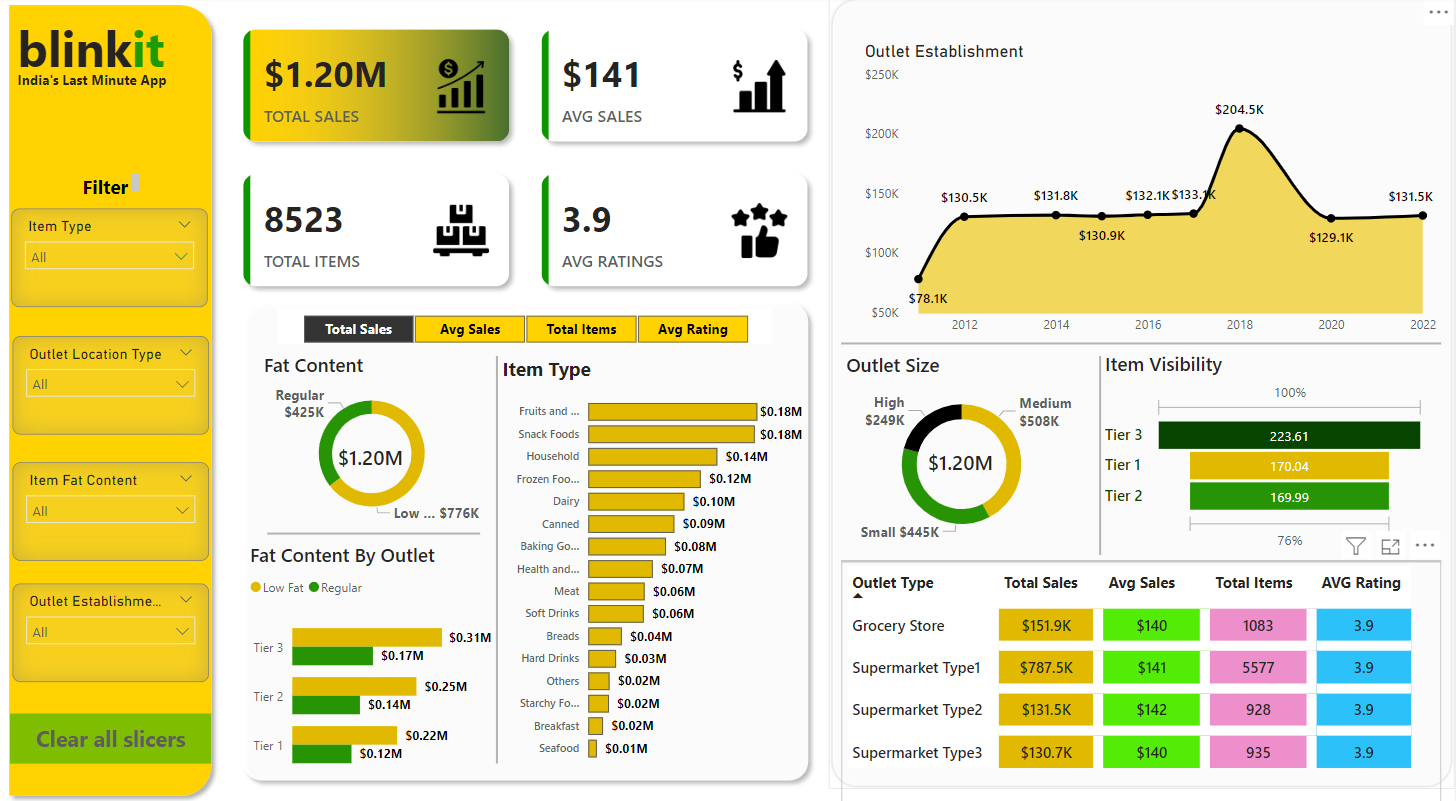

Layout of this report page (visuals, bound fields, positions):
{"tool":"powerbi","page":{"name":"Page 1","canvas":[1440,800],"ordinal":0},"visuals":[{"type":"shape","box":[0,0,218.3,800.4],"z":0},{"type":"textbox","box":[12.3,13.9,179.1,98.8],"z":1000},{"type":"textbox","box":[12.3,69.5,180.6,43.2],"z":2000},{"type":"cardVisual","fields":{"Data":["BlinkIT Grocery Data.total sales","BlinkIT Grocery Data.Avg sales","BlinkIT Grocery Data.total items","BlinkIT Grocery Data.Avg rating"]},"box":[224,16,592,288],"z":3000},{"type":"shape","box":[231.6,294.9,577.4,490.9],"z":4000},{"type":"donutChart","title":"Fat Content","fields":{"Y":["BlinkIT Grocery Data.total sales"],"Category":["BlinkIT Grocery Data.Item Fat Content"]},"box":[256,352,224,176],"z":5000},{"type":"slicer","fields":{"Values":["Matrix.Matrix"]},"box":[274.8,308.7,489.4,35.5],"z":6000},{"type":"cardVisual","fields":{"Data":["BlinkIT Grocery Data.total sales"]},"box":[316.4,408.8,100.5,84.5],"z":7000},{"type":"shape","box":[264.1,522.8,210.5,17.4],"z":8000},{"type":"shape","box":[474.5,356.6,33.5,403.5],"z":9000},{"type":"clusteredBarChart","title":"Item Type","fields":{"Y":["BlinkIT Grocery Data.total sales"],"Category":["BlinkIT Grocery Data.Item Type"]},"box":[492,356.6,307,411.5],"z":10000},{"type":"shape","box":[820.4,0,619.3,785.5],"z":11000},{"type":"lineChart","title":"Outlet Establishment","fields":{"Y":["BlinkIT Grocery Data.total sales"],"Category":["BlinkIT Grocery Data.Outlet Establishment Year"]},"box":[851.2,44.2,575.1,298.9],"z":12000},{"type":"donutChart","title":"Outlet Size","fields":{"Y":["BlinkIT Grocery Data.total sales"],"Category":["BlinkIT Grocery Data.Outlet Size"]},"box":[832.4,352.5,238.6,197.1],"z":13000},{"type":"shape","box":[832.4,336.5,593.8,14.7],"z":14000},{"type":"cardVisual","fields":{"Data":["BlinkIT Grocery Data.total sales"]},"box":[900.8,423.6,100.5,56.3],"z":15000},{"type":"shape","box":[832.4,555,593.8,8],"z":16000},{"type":"shape","box":[1071.1,356.6,34.9,197.1],"z":17000},{"type":"clusteredBarChart","title":"Fat Content By Outlet","fields":{"Y":["BlinkIT Grocery Data.total sales"],"Category":["BlinkIT Grocery Data.Outlet Location Type"],"Series":["BlinkIT Grocery Data.Item Fat Content"]},"box":[242.6,540.2,249.3,245.3],"z":18000},{"type":"tableEx","title":"Outlet Type","fields":{"Values":["BlinkIT Grocery Data.Outlet Type","BlinkIT Grocery Data.total sales","BlinkIT Grocery Data.Avg Sales","BlinkIT Grocery Data.total items","BlinkIT Grocery Data.AVG Rating"]},"box":[832.4,559,593.8,241.3],"z":19000},{"type":"funnel","title":"Item Visibility","fields":{"Y":["Sum(BlinkIT Grocery Data.Item Visibility)"],"Category":["BlinkIT Grocery Data.Outlet Location Type"]},"box":[1088.5,351.2,327.1,202.4],"z":20000},{"type":"slicer","fields":{"Values":["BlinkIT Grocery Data.Item Type"]},"box":[10.7,210.5,194.4,97.9],"z":21000},{"type":"slicer","fields":{"Values":["BlinkIT Grocery Data.Outlet Location Type"]},"box":[12.1,336.5,194.4,97.9],"z":22000},{"type":"slicer","fields":{"Values":["BlinkIT Grocery Data.Item Fat Content"]},"box":[12.1,461.1,194.4,97.9],"z":23000},{"type":"slicer","fields":{"Values":["BlinkIT Grocery Data.Outlet Establishment Year"]},"box":[12.1,581.8,194.4,97.9],"z":24000},{"type":"textbox","box":[76.4,170.2,65.7,40.2],"z":25000},{"type":"actionButton","box":[9.6,710.4,199.1,49.8],"z":26000}]}

Visuals, with their boxes in screenshot pixels (x1, y1, x2, y2), scaled from the page's 1440x800 canvas onto the 1456x801 screenshot:
shape: bbox(0, 0, 221, 800)
textbox: bbox(12, 14, 194, 113)
textbox: bbox(12, 70, 195, 113)
cardVisual - BlinkIT Grocery Data.total sales x BlinkIT Grocery Data.Avg sales: bbox(226, 16, 825, 304)
shape: bbox(234, 295, 818, 787)
"Fat Content" donutChart: bbox(259, 352, 485, 529)
slicer - Matrix.Matrix: bbox(278, 309, 773, 345)
cardVisual - BlinkIT Grocery Data.total sales: bbox(320, 409, 422, 494)
shape: bbox(267, 523, 480, 541)
shape: bbox(480, 357, 514, 761)
"Item Type" clusteredBarChart: bbox(497, 357, 808, 769)
shape: bbox(830, 0, 1455, 786)
"Outlet Establishment" lineChart: bbox(861, 44, 1442, 344)
"Outlet Size" donutChart: bbox(842, 353, 1083, 550)
shape: bbox(842, 337, 1442, 352)
cardVisual - BlinkIT Grocery Data.total sales: bbox(911, 424, 1012, 480)
shape: bbox(842, 556, 1442, 564)
shape: bbox(1083, 357, 1118, 554)
"Fat Content By Outlet" clusteredBarChart: bbox(245, 541, 497, 786)
"Outlet Type" tableEx: bbox(842, 560, 1442, 800)
"Item Visibility" funnel: bbox(1101, 352, 1431, 554)
slicer - BlinkIT Grocery Data.Item Type: bbox(11, 211, 207, 309)
slicer - BlinkIT Grocery Data.Outlet Location Type: bbox(12, 337, 209, 435)
slicer - BlinkIT Grocery Data.Item Fat Content: bbox(12, 462, 209, 560)
slicer - BlinkIT Grocery Data.Outlet Establishment Year: bbox(12, 583, 209, 681)
textbox: bbox(77, 170, 144, 211)
actionButton: bbox(10, 711, 211, 761)
